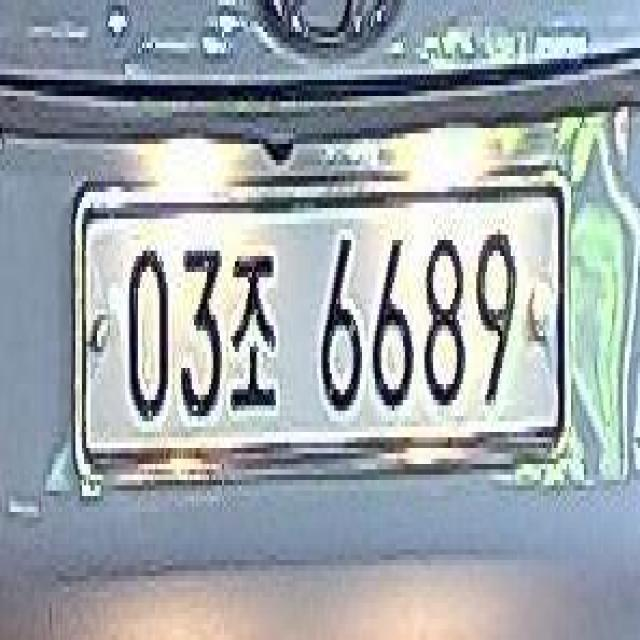illegal_plate: (69, 162, 568, 487)
